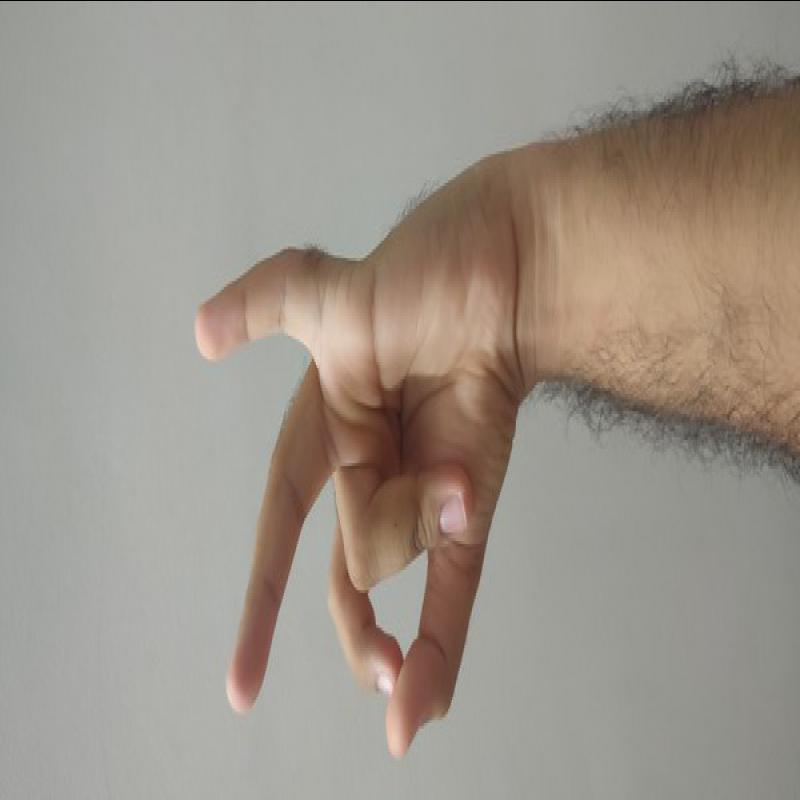Katakam: (184, 134, 530, 764)
